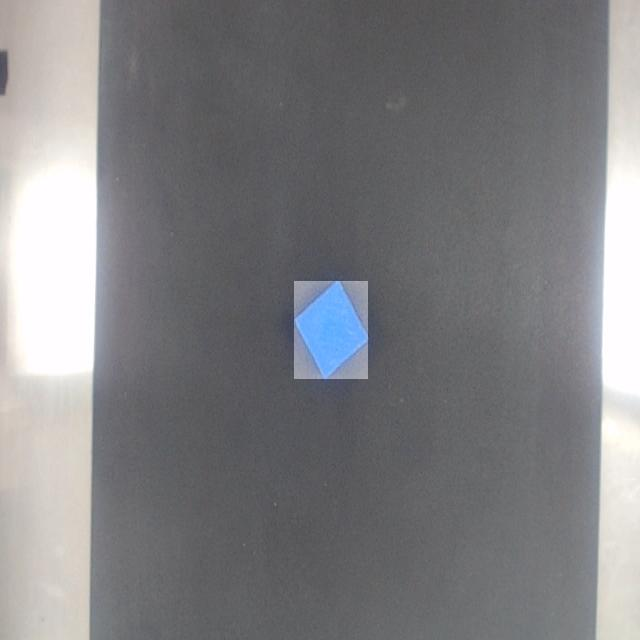Azul: (294, 281, 368, 379)
